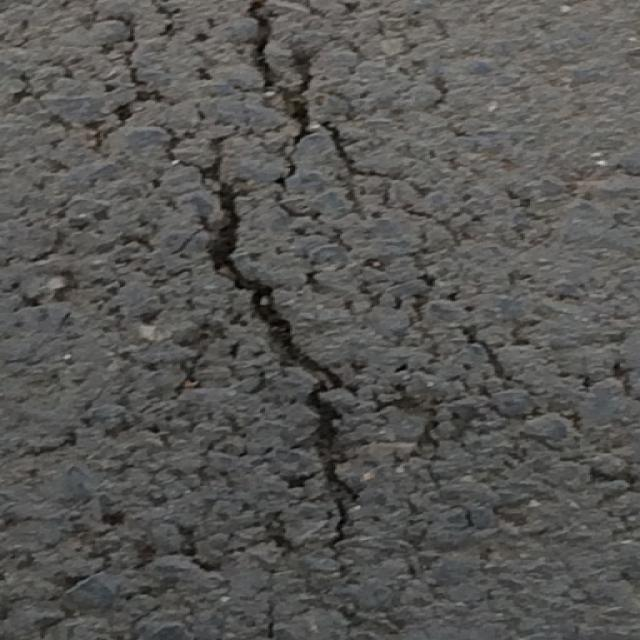crack: (180, 3, 469, 555)
